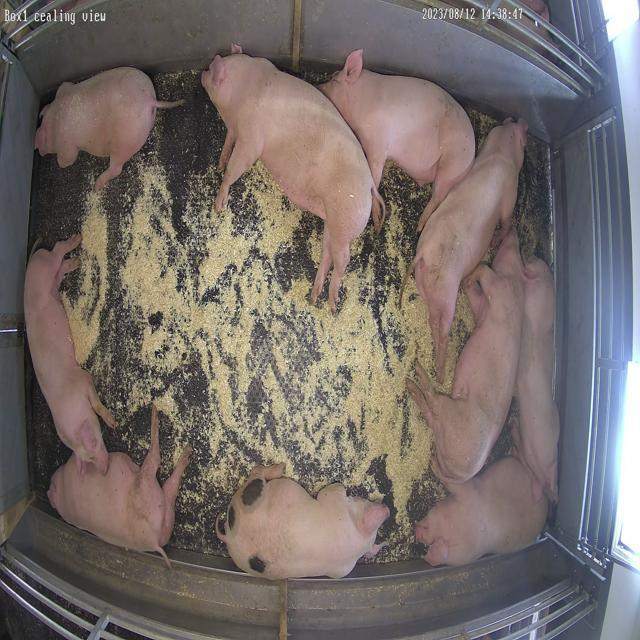Dirt: (515, 135, 553, 266)
Pig: (201, 45, 376, 312), (414, 120, 529, 378), (409, 231, 525, 484), (320, 50, 476, 230), (47, 406, 191, 568), (24, 234, 114, 472), (216, 466, 390, 580), (34, 67, 179, 189), (417, 458, 549, 567), (517, 257, 561, 502)
